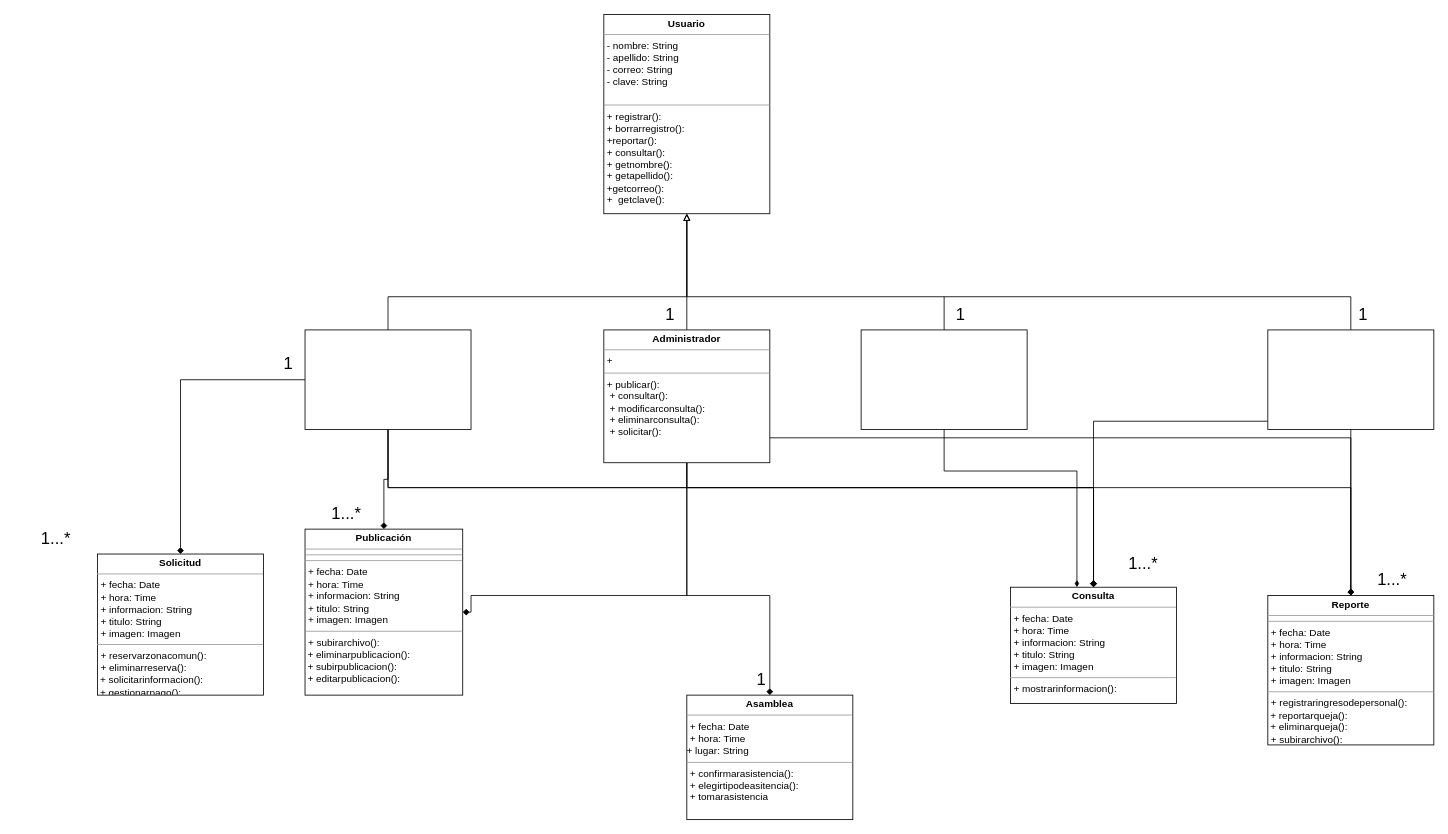
The diagram is 1448 pixels wide and 834 high, and some of its shapes have lost their labels. The centre of each missing label's shape, as x and y in pixels:
Habitante + numerodevivienda: int + publicar(): + solicitar():: the point at 387,379
Prestador de servicios + empresaasociada: String + subirreportes():: the point at 1350,379
Visitantes + numerodevivienda: int + Consultar():: the point at 943,379
